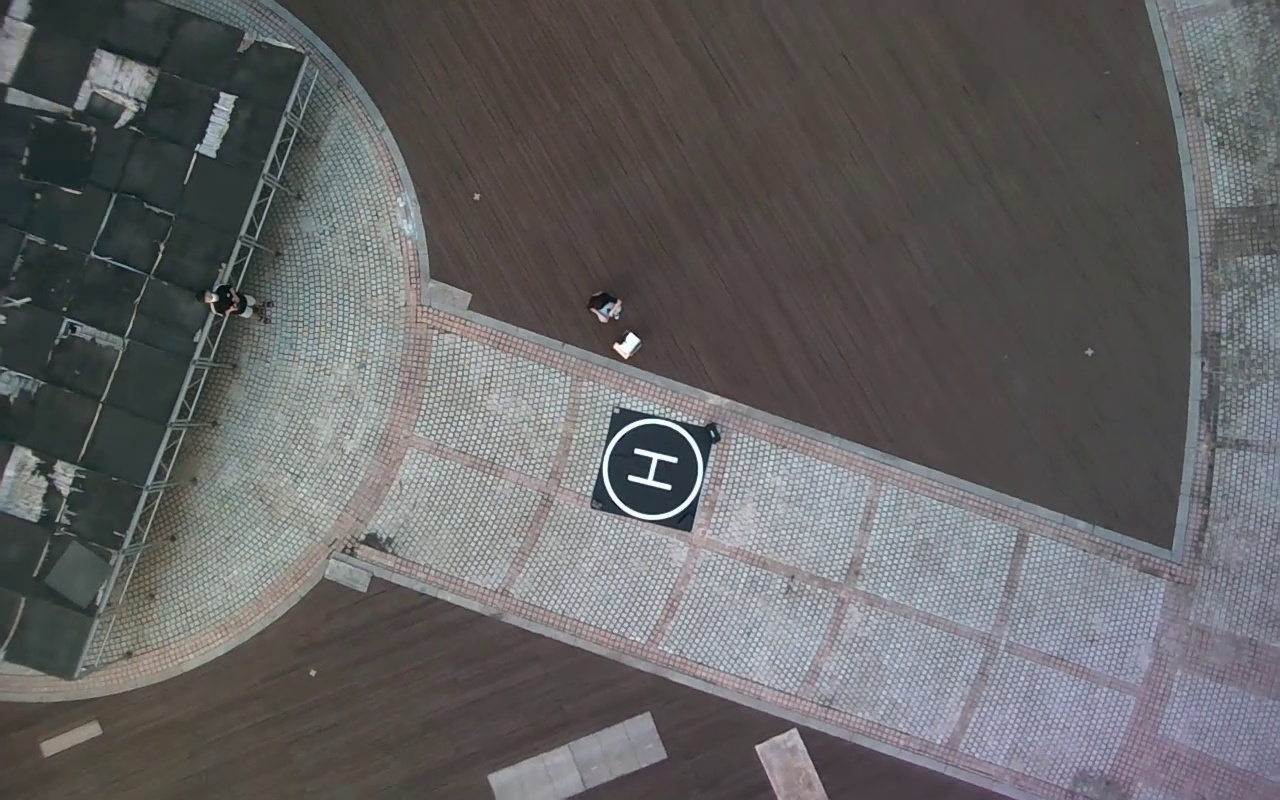H: (624, 445, 680, 492)
heliport: (600, 419, 705, 521)
